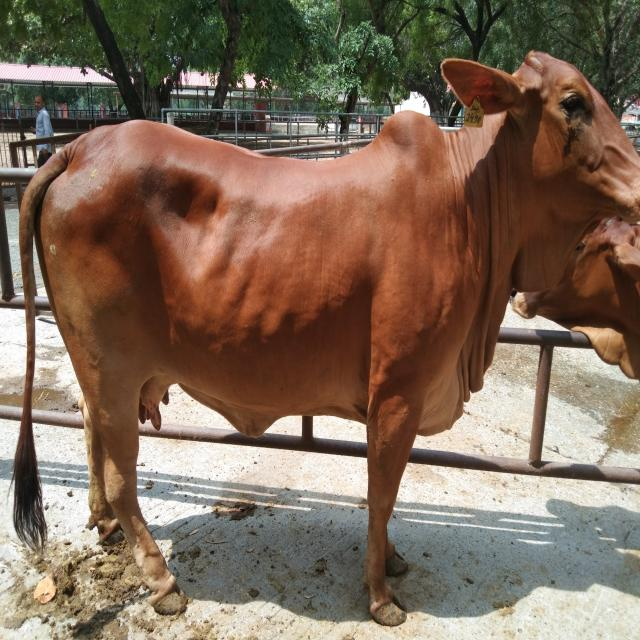cow: (8, 49, 639, 626)
hump: (379, 108, 441, 150)
